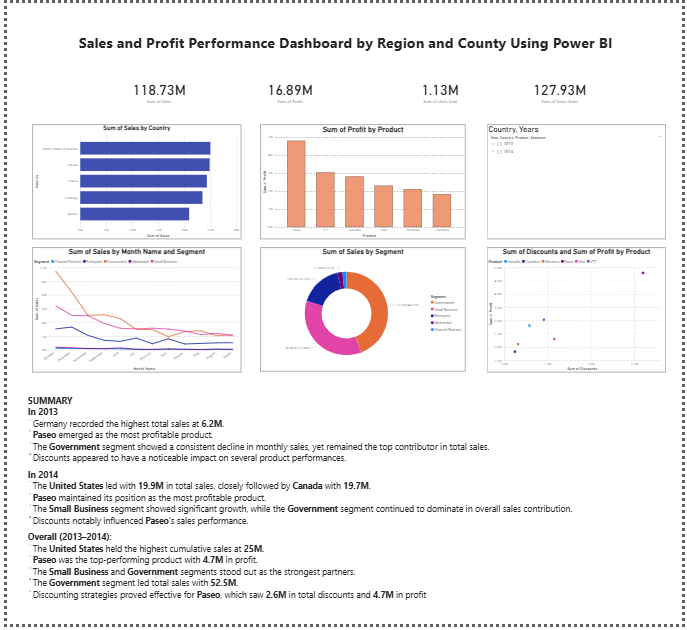

Layout of this report page (visuals, bound fields, positions):
{"tool":"powerbi","page":{"name":"Page 1","canvas":[2500,2300],"ordinal":0},"visuals":[{"type":"clusteredColumnChart","fields":{"Category":["financials.Product"],"Y":["Sum(financials.Profit)"]},"box":[937.9,448.3,758.6,424.1],"z":0},{"type":"clusteredBarChart","fields":{"Category":["financials.Country"],"Y":["Sum(financials.Sales)"]},"box":[96.6,448.3,772.4,424.1],"z":1000},{"type":"lineChart","fields":{"Category":["financials.Month Name"],"Y":["Sum(financials.Sales)"],"Series":["financials.Segment"]},"box":[96.6,906.9,772.4,462.1],"z":2000},{"type":"donutChart","fields":{"Category":["financials.Segment"],"Y":["Sum(financials.Sales)"]},"box":[937.9,906.9,758.6,458.6],"z":3000},{"type":"scatterChart","fields":{"X":["Sum(financials.Discounts)"],"Y":["Sum(financials.Profit)"],"Series":["financials.Product"]},"box":[1775.9,903.4,662.1,462.1],"z":4000},{"type":"slicer","title":"Country, Years","fields":{"Values":["financials.Year","financials.Country","financials.Product","financials.Segment"]},"box":[1775.9,448.3,662.1,424.1],"z":5000},{"type":"card","fields":{"Values":["Sum(financials.Sales)"]},"box":[417.6,234.7,293.3,182.9],"z":6000},{"type":"card","fields":{"Values":["Sum(financials.Profit)"]},"box":[869.7,231.2,352,182.9],"z":7000},{"type":"card","fields":{"Values":["Sum(financials.Units Sold)"]},"box":[1435.6,231.2,341.6,182.9],"z":8000},{"type":"card","fields":{"Values":["Sum(financials.Gross Sales)"]},"box":[1898.1,231.2,293.3,182.9],"z":9000},{"type":"textbox","box":[72.5,51.8,2363.9,144.9],"z":10000},{"type":"textbox","box":[72.5,1442.5,2365,832.5],"z":11000}]}

Visuals, with their boxes in screenshot pixels (x1, y1, x2, y2), scaled from the page's 2500x2300 canvas onto the 687x630 screenshot:
clusteredColumnChart - financials.Product x Sum(financials.Profit): x1=258, y1=123, x2=466, y2=239
clusteredBarChart - financials.Country x Sum(financials.Sales): x1=27, y1=123, x2=239, y2=239
lineChart - financials.Month Name x Sum(financials.Sales): x1=27, y1=248, x2=239, y2=375
donutChart - financials.Segment x Sum(financials.Sales): x1=258, y1=248, x2=466, y2=374
scatterChart - Sum(financials.Discounts) x Sum(financials.Profit): x1=488, y1=247, x2=670, y2=374
"Country, Years" slicer: x1=488, y1=123, x2=670, y2=239
card - Sum(financials.Sales): x1=115, y1=64, x2=195, y2=114
card - Sum(financials.Profit): x1=239, y1=63, x2=336, y2=113
card - Sum(financials.Units Sold): x1=395, y1=63, x2=488, y2=113
card - Sum(financials.Gross Sales): x1=522, y1=63, x2=602, y2=113
textbox: x1=20, y1=14, x2=670, y2=54
textbox: x1=20, y1=395, x2=670, y2=623
